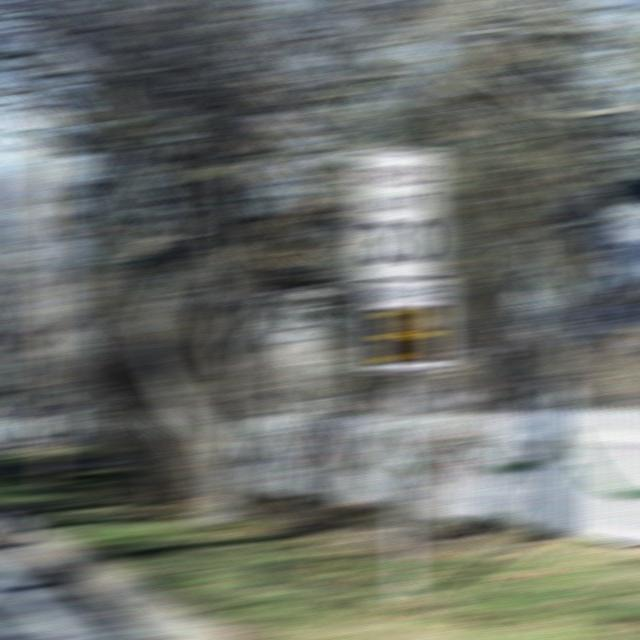speedLimit30: (356, 155, 439, 278)
